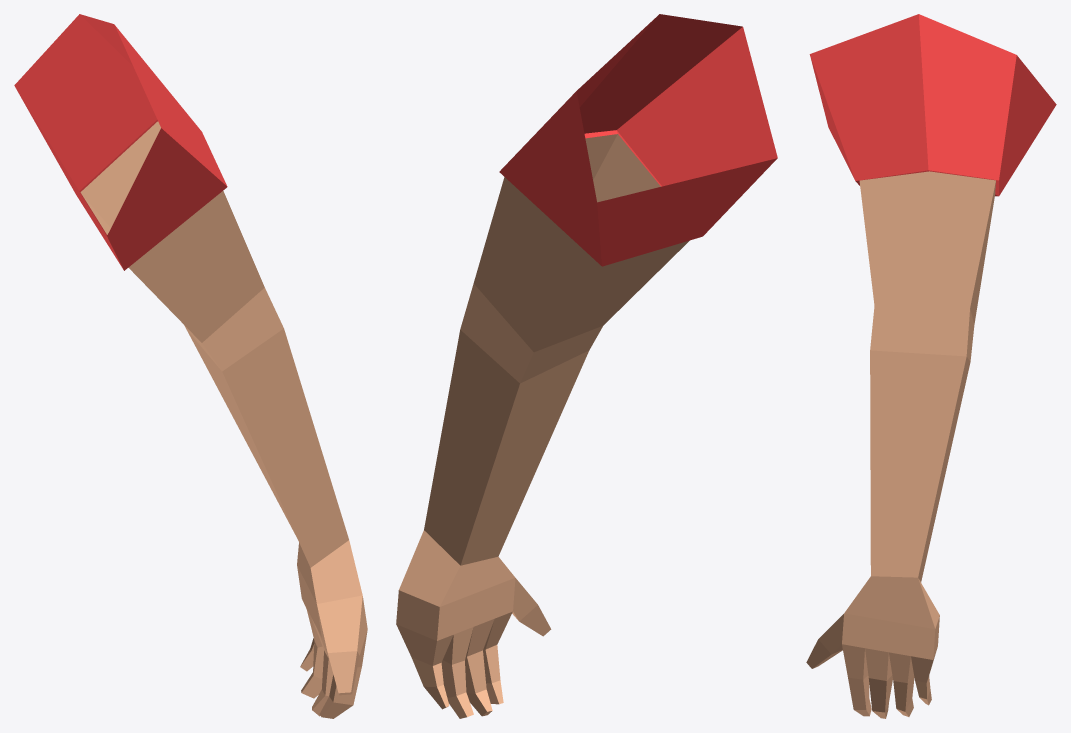
File: brazo_izq.obj
3 views of the same model, side by side, from view 1: azimuth 30°, elevation 25°; view 2: azimuth 150°, elevation 25°; view 3: azimuth 270°, elevation 25° (orthographic). The views are drawn at different scales.
Parts seen in each view (by area): view 1: Cube; view 2: Cube; view 3: Cube.
Boxes of the visible parts, x1,y1,x2,y2 form: Cube: [14, 14, 367, 718]; Cube: [396, 14, 777, 718]; Cube: [806, 14, 1056, 718].
Bounding box in the file's own units: 0.5701 × 1.31 × 0.4759.
Materials: 2 (2 with a texture image).
